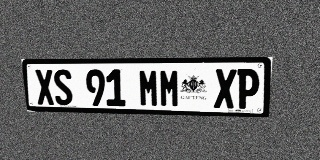1: (105, 69, 126, 106)
9: (85, 69, 106, 106)
M: (138, 69, 159, 107), (159, 69, 180, 107)
P: (236, 69, 260, 109)
S: (53, 69, 73, 105)
X: (214, 69, 237, 108), (34, 69, 55, 105)
